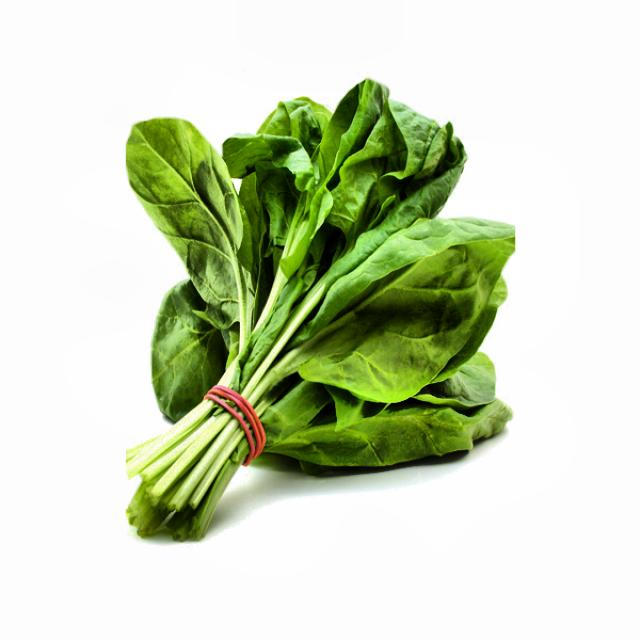spinach: (96, 95, 549, 544)
